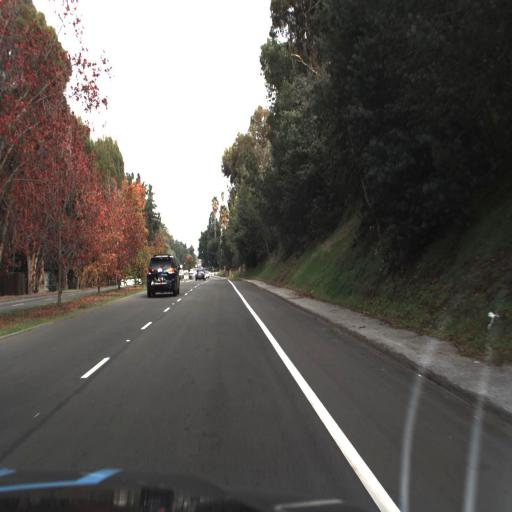car: (140, 254, 179, 306), (119, 273, 143, 294), (192, 264, 206, 286)
